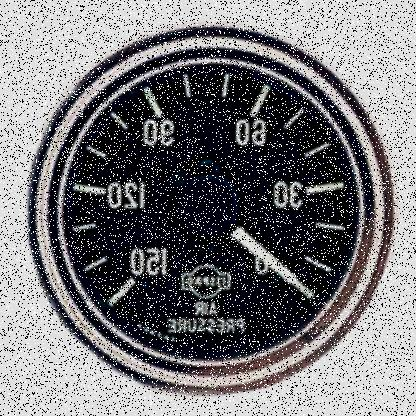needle: (227, 223, 314, 299)
